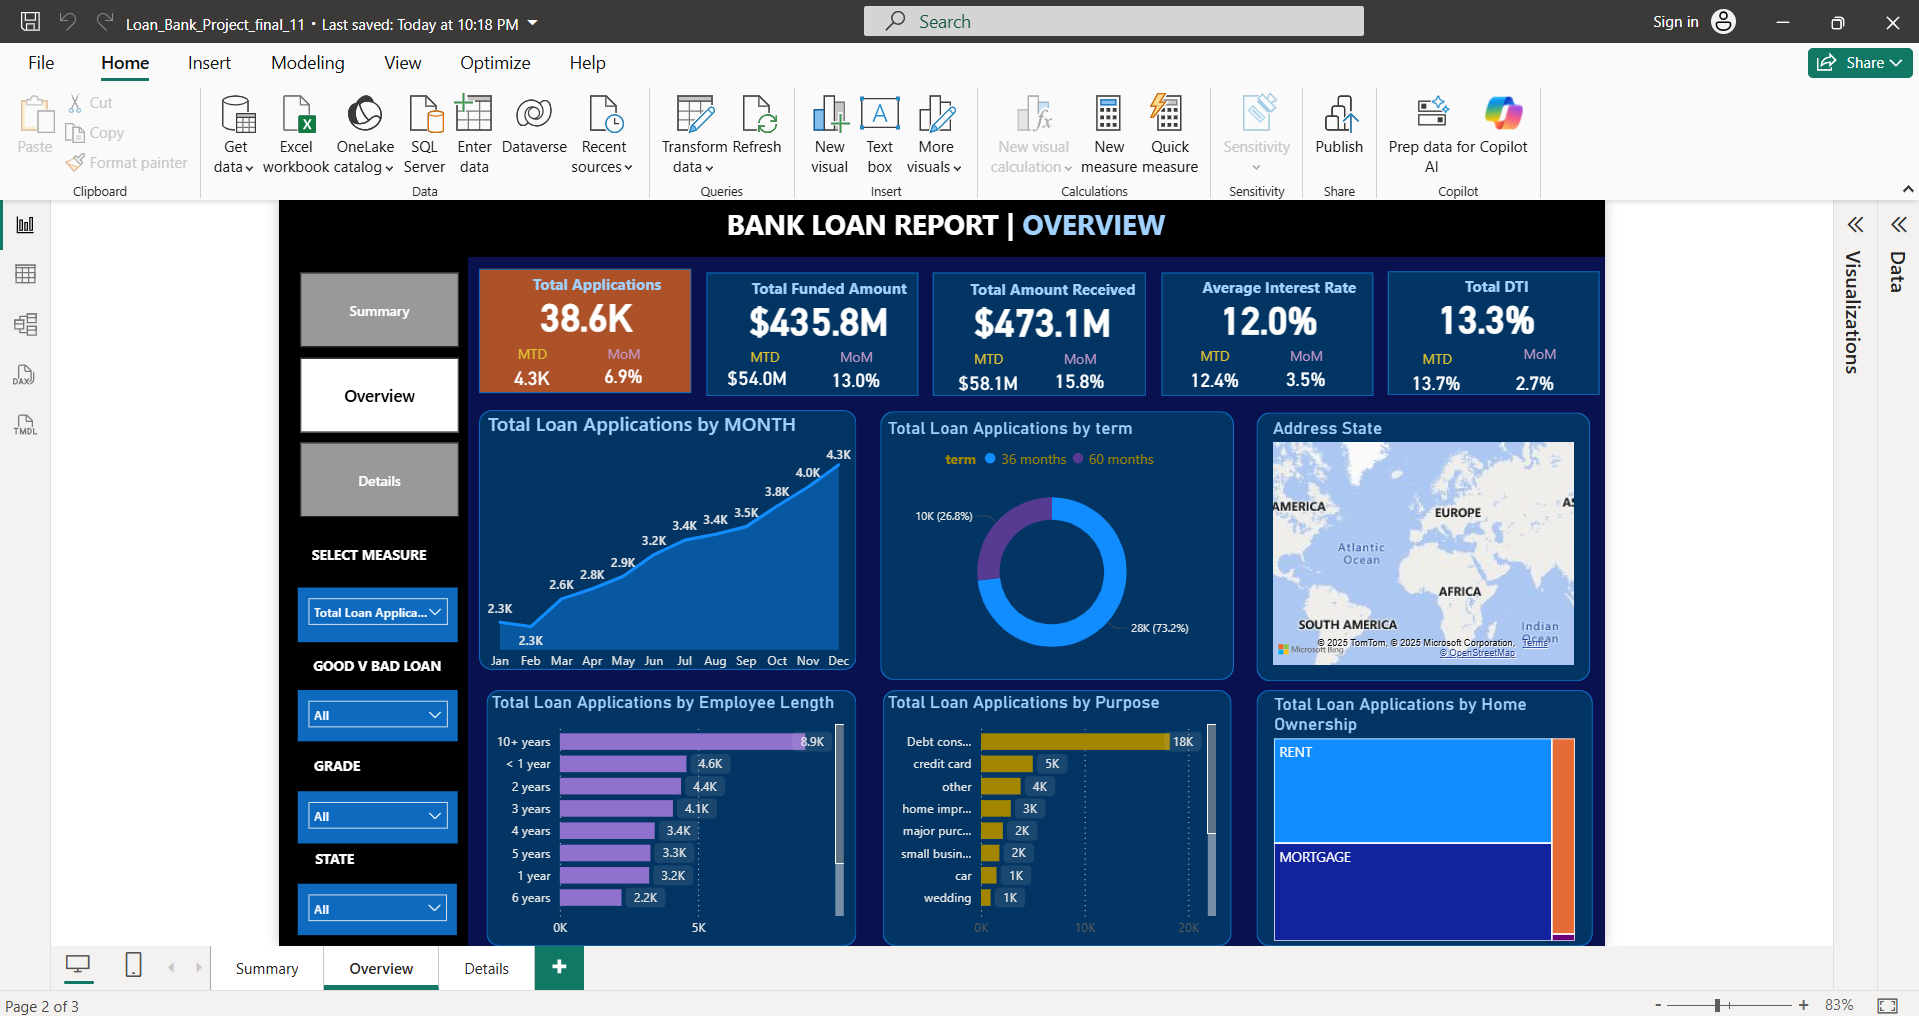

Layout of this report page (visuals, bound fields, positions):
{"tool":"powerbi","page":{"name":"Overview","canvas":[1280,720],"ordinal":1},"visuals":[{"type":"shape","box":[0,54.9,182.5,665.5],"z":0},{"type":"shape","box":[193,202.7,364.3,250.9],"z":1000},{"type":"shape","box":[0,0,1280.3,54.9],"z":2000},{"type":"shape","box":[631.5,70,205.8,119.4],"z":3000},{"type":"shape","box":[193.5,65.9,205,120],"z":4000},{"type":"textbox","box":[216.6,65.9,179.3,37.9],"z":4000,"group":"g1"},{"type":"textbox","box":[1085.2,67.2,179.3,37.9],"z":4000,"group":"g2"},{"type":"textbox","box":[875.3,68.6,179.3,37.9],"z":4000,"group":"g3"},{"type":"textbox","box":[441.7,70,179.3,37.9],"z":4000,"group":"g4"},{"type":"textbox","box":[657.1,71.4,179.3,37.9],"z":4000,"group":"g5"},{"type":"group","id":"g1","title":"Group 2","box":[196.2,65.9,200,130],"z":4001,"group":"g7"},{"type":"group","id":"g2","title":"Group 2","box":[1064.8,67.2,200,77.6],"z":4001,"group":"g10"},{"type":"group","id":"g3","title":"Group 2","box":[854.9,68.6,200,130],"z":4001,"group":"g9"},{"type":"group","id":"g4","title":"Group 2","box":[413.8,70,207.5,128.7],"z":4001,"group":"g8"},{"type":"group","id":"g5","title":"Group 2","box":[636.7,71.4,200,130],"z":4001,"group":"g6"},{"type":"textbox","box":[426.8,0,455.6,54.9],"z":5000},{"type":"card","fields":{"Values":["public bank.MTD Total"]},"box":[196.2,147.9,95.1,48],"z":5000,"group":"g1"},{"type":"card","fields":{"Values":["public bank.MTD Total Funded Amount"]},"box":[413.8,149.8,95.5,47],"z":5000,"group":"g4"},{"type":"card","fields":{"Values":["public bank.MTD Interest Rate"]},"box":[854.9,150.6,95.1,48],"z":5000,"group":"g3"},{"type":"card","fields":{"Values":["public bank.MTD Total amount receieved"]},"box":[636.7,153.4,95.1,48],"z":5000,"group":"g5"},{"type":"shape","box":[412.8,70,204.5,119.4],"z":6000},{"type":"card","fields":{"Values":["public bank.Total Loan Applications"]},"box":[196.2,78.5,200,65],"z":6000,"group":"g1"},{"type":"card","fields":{"Values":["public bank.Average DTI"]},"box":[1064.8,79.8,200,65],"z":6000,"group":"g2"},{"type":"card","fields":{"Values":["public bank.Avg Interest rate"]},"box":[854.9,81.2,200,65],"z":6000,"group":"g3"},{"type":"card","fields":{"Values":["public bank.Total Funded Amount"]},"box":[421.3,82.6,200,65],"z":6000,"group":"g4"},{"type":"card","fields":{"Values":["public bank.Total amount recieved"]},"box":[636.7,84,200,65],"z":6000,"group":"g5"},{"type":"shape","box":[1070.3,68.6,204.5,119.4],"z":7000},{"type":"textbox","box":[215.2,134.1,57,37.9],"z":7000,"group":"g1"},{"type":"textbox","box":[873.9,136.8,57,37.9],"z":7000,"group":"g3"},{"type":"textbox","box":[440.3,138.2,57,37.9],"z":7000,"group":"g4"},{"type":"textbox","box":[655.7,139.6,57,37.9],"z":7000,"group":"g5"},{"type":"card","fields":{"Values":["public bank.MTD Average DTI"]},"box":[1069,153.9,95.5,47],"z":8000},{"type":"textbox","box":[300.8,134.1,62.5,37.9],"z":9000,"group":"g1"},{"type":"textbox","box":[959.5,136.8,62.5,37.9],"z":9000,"group":"g3"},{"type":"textbox","box":[525.9,138.2,62.5,37.9],"z":9000,"group":"g4"},{"type":"textbox","box":[741.3,139.6,62.5,37.9],"z":9000,"group":"g5"},{"type":"card","fields":{"Values":["public bank.MoM DTI"]},"box":[1164.5,153.9,95.5,47],"z":9000},{"type":"textbox","box":[1187.3,134,59.9,37.1],"z":10000},{"type":"card","fields":{"Values":["public bank.MoM"]},"box":[284.5,146.7,95.1,48],"z":10000,"group":"g1"},{"type":"card","fields":{"Values":["public bank.MoM InterestRate"]},"box":[943.2,149.4,95.1,48],"z":10000,"group":"g3"},{"type":"card","fields":{"Values":["public bank.MoM Funded"]},"box":[509.6,150.8,95.1,48],"z":10000,"group":"g4"},{"type":"card","fields":{"Values":["public bank.MoM Amountreceieved"]},"box":[725,152.2,95.1,48],"z":10000,"group":"g5"},{"type":"group","id":"g6","title":"Group 1","box":[636.7,71.4,200.3,130.4],"z":11000},{"type":"shape","box":[851.6,70,204.5,119.4],"z":12000},{"type":"textbox","box":[1089,138.3,57,37.1],"z":13000},{"type":"group","id":"g7","title":"Group 1","box":[196.2,65.9,200.3,130.4],"z":14000},{"type":"group","id":"g8","title":"Group 1","box":[413.8,70,207.5,128.7],"z":15000},{"type":"group","id":"g9","title":"Group 1","box":[854.9,68.6,200.3,130.4],"z":16000},{"type":"group","id":"g10","title":"Group 1","box":[1064.8,67.2,200,77.6],"z":17000},{"type":"slicer","fields":{"Values":["public bank.address_state"]},"box":[18.1,659.9,153.9,49.9],"z":18000},{"type":"textbox","box":[18.1,621.4,71.3,38.5],"z":19000},{"type":"textbox","box":[20.5,532,71.2,38.6],"z":20000},{"type":"slicer","fields":{"Values":["public bank.Good v Bad Loan"]},"box":[18.1,472.9,154.4,49.5],"z":21000},{"type":"slicer","fields":{"Values":["public bank.grade"]},"box":[18.1,570.6,154.4,50.7],"z":22000},{"type":"textbox","box":[20.5,435.5,148.4,38.6],"z":23000},{"type":"areaChart","fields":{"Y":["public bank.Total Loan Applications"],"Category":["Date Table.MONTH"]},"box":[196.6,202.7,360.7,260.6],"z":24000},{"type":"slicer","fields":{"Values":["Select Measure.Select Measure"]},"box":[18.1,374,154.4,53.1],"z":25000},{"type":"textbox","box":[18.1,328.2,137.5,38.6],"z":26000},{"type":"shape","box":[579.7,203.9,341.4,259.4],"z":27000},{"type":"donutChart","fields":{"Y":["public bank.Total Loan Applications"],"Category":["public bank.term"]},"box":[582.7,209.9,326.9,249.7],"z":28000},{"type":"shape","box":[200.3,472.9,357.1,247.3],"z":29000},{"type":"barChart","fields":{"Y":["public bank.Total Loan Applications"],"Category":["public bank.emp_length"]},"box":[200.3,474.1,349.9,246.1],"z":30000},{"type":"shape","box":[582.1,472.9,336.6,247.3],"z":31000},{"type":"barChart","fields":{"Y":["public bank.Total Loan Applications"],"Category":["public bank.purpose"]},"box":[582.7,474.1,326.9,246.1],"z":32000},{"type":"shape","box":[943.4,472.9,324.5,247.3],"z":33000},{"type":"shape","box":[943.4,205.1,322.1,259.4],"z":34000},{"type":"treemap","fields":{"Values":["public bank.Total Loan Applications"],"Group":["public bank.home_ownership"]},"box":[955.5,476.5,300.4,243.7],"z":35000},{"type":"filledMap","title":"Address State","fields":{"Category":["public bank.address_state"]},"box":[954.3,209.9,300.4,243.7],"z":36000},{"type":"pageNavigator","box":[20.5,70,153.2,236.5],"z":37000}]}

Visuals, with their boxes on the page's 1280x720 design canvas (x1, y1, x2, y2). These are canvas units, not pixel positions in the 1919x1016 screenshot, which may show the page scaled, cropped or inside an application window:
shape: select_region(0, 55, 182, 720)
shape: select_region(193, 203, 557, 454)
shape: select_region(0, 0, 1280, 55)
shape: select_region(632, 70, 837, 189)
shape: select_region(194, 66, 398, 186)
textbox: select_region(217, 66, 396, 104)
textbox: select_region(1085, 67, 1264, 105)
textbox: select_region(875, 69, 1055, 106)
textbox: select_region(442, 70, 621, 108)
textbox: select_region(657, 71, 836, 109)
"Group 2" group: select_region(196, 66, 396, 196)
"Group 2" group: select_region(1065, 67, 1265, 145)
"Group 2" group: select_region(855, 69, 1055, 199)
"Group 2" group: select_region(414, 70, 621, 199)
"Group 2" group: select_region(637, 71, 837, 201)
textbox: select_region(427, 0, 882, 55)
card - public bank.MTD Total: select_region(196, 148, 291, 196)
card - public bank.MTD Total Funded Amount: select_region(414, 150, 509, 197)
card - public bank.MTD Interest Rate: select_region(855, 151, 950, 199)
card - public bank.MTD Total amount receieved: select_region(637, 153, 732, 201)
shape: select_region(413, 70, 617, 189)
card - public bank.Total Loan Applications: select_region(196, 78, 396, 144)
card - public bank.Average DTI: select_region(1065, 80, 1265, 145)
card - public bank.Avg Interest rate: select_region(855, 81, 1055, 146)
card - public bank.Total Funded Amount: select_region(421, 83, 621, 148)
card - public bank.Total amount recieved: select_region(637, 84, 837, 149)
shape: select_region(1070, 69, 1275, 188)
textbox: select_region(215, 134, 272, 172)
textbox: select_region(874, 137, 931, 175)
textbox: select_region(440, 138, 497, 176)
textbox: select_region(656, 140, 713, 178)
card - public bank.MTD Average DTI: select_region(1069, 154, 1164, 201)
textbox: select_region(301, 134, 363, 172)
textbox: select_region(960, 137, 1022, 175)
textbox: select_region(526, 138, 588, 176)
textbox: select_region(741, 140, 804, 178)
card - public bank.MoM DTI: select_region(1164, 154, 1260, 201)
textbox: select_region(1187, 134, 1247, 171)
card - public bank.MoM: select_region(284, 147, 380, 195)
card - public bank.MoM InterestRate: select_region(943, 149, 1038, 197)
card - public bank.MoM Funded: select_region(510, 151, 605, 199)
card - public bank.MoM Amountreceieved: select_region(725, 152, 820, 200)
"Group 1" group: select_region(637, 71, 837, 202)
shape: select_region(852, 70, 1056, 189)
textbox: select_region(1089, 138, 1146, 175)
"Group 1" group: select_region(196, 66, 396, 196)
"Group 1" group: select_region(414, 70, 621, 199)
"Group 1" group: select_region(855, 69, 1055, 199)
"Group 1" group: select_region(1065, 67, 1265, 145)
slicer - public bank.address_state: select_region(18, 660, 172, 710)
textbox: select_region(18, 621, 89, 660)
textbox: select_region(20, 532, 92, 571)
slicer - public bank.Good v Bad Loan: select_region(18, 473, 172, 522)
slicer - public bank.grade: select_region(18, 571, 172, 621)
textbox: select_region(20, 436, 169, 474)
areaChart - public bank.Total Loan Applications x Date Table.MONTH: select_region(197, 203, 557, 463)
slicer - Select Measure.Select Measure: select_region(18, 374, 172, 427)
textbox: select_region(18, 328, 156, 367)
shape: select_region(580, 204, 921, 463)
donutChart - public bank.Total Loan Applications x public bank.term: select_region(583, 210, 910, 460)
shape: select_region(200, 473, 557, 720)
barChart - public bank.Total Loan Applications x public bank.emp_length: select_region(200, 474, 550, 720)
shape: select_region(582, 473, 919, 720)
barChart - public bank.Total Loan Applications x public bank.purpose: select_region(583, 474, 910, 720)
shape: select_region(943, 473, 1268, 720)
shape: select_region(943, 205, 1266, 464)
treemap - public bank.Total Loan Applications x public bank.home_ownership: select_region(956, 476, 1256, 720)
"Address State" filledMap: select_region(954, 210, 1255, 454)
pageNavigator: select_region(20, 70, 174, 306)
